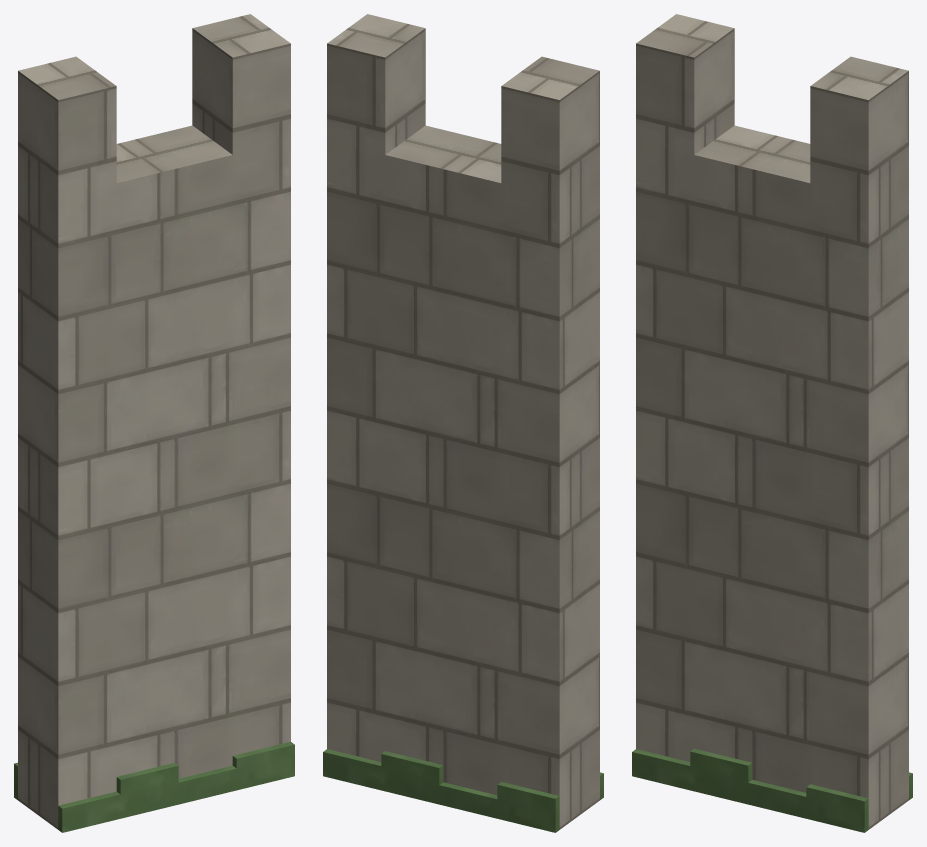
File: wall.segment.glb
3 views of the same model, side by side, from view 1: azimuth 30°, elevation 25°; view 2: azimuth 150°, elevation 25°; view 3: azimuth 330°, elevation 25° (orthographic).
Visible parts, largest first — view 1: castle.wall.segment; view 2: castle.wall.segment; view 3: castle.wall.segment.
Boxes of the visible parts, x1,y1,x2,y2 form: castle.wall.segment: [14, 14, 294, 832]; castle.wall.segment: [323, 14, 603, 832]; castle.wall.segment: [632, 14, 912, 832].
Size of the model in its own units: 1 by 3 by 0.36.
Materials: 2 (2 with a texture image).
